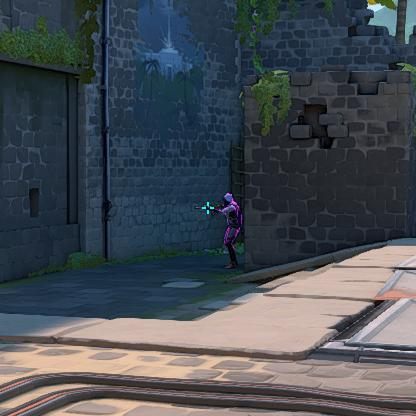enemyBody: (227, 206, 238, 225)
enemyHead: (223, 197, 230, 204)
